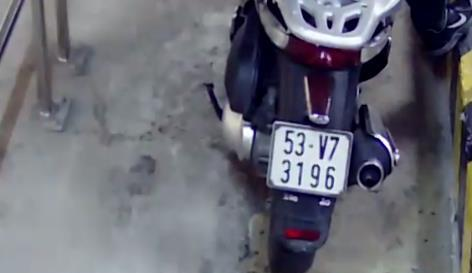lisence: (268, 122, 353, 197)
